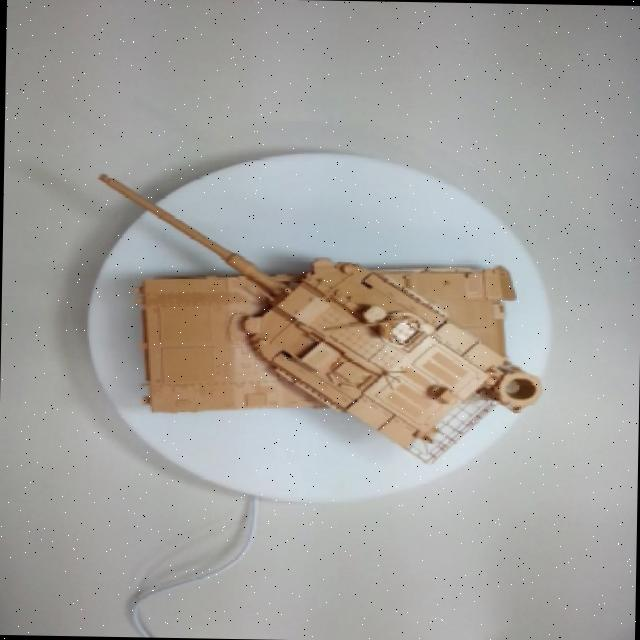korea tank: (28, 149, 570, 501)
